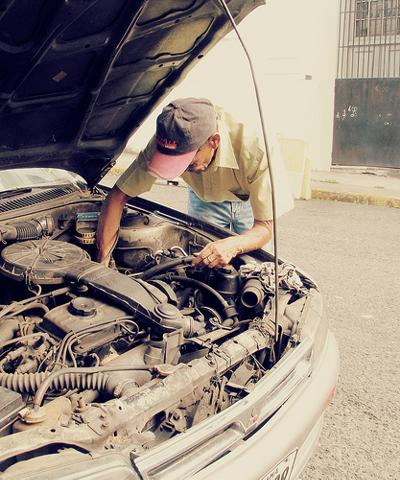person: (93, 98, 295, 271)
